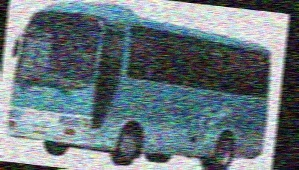bus: (1, 0, 277, 170)
